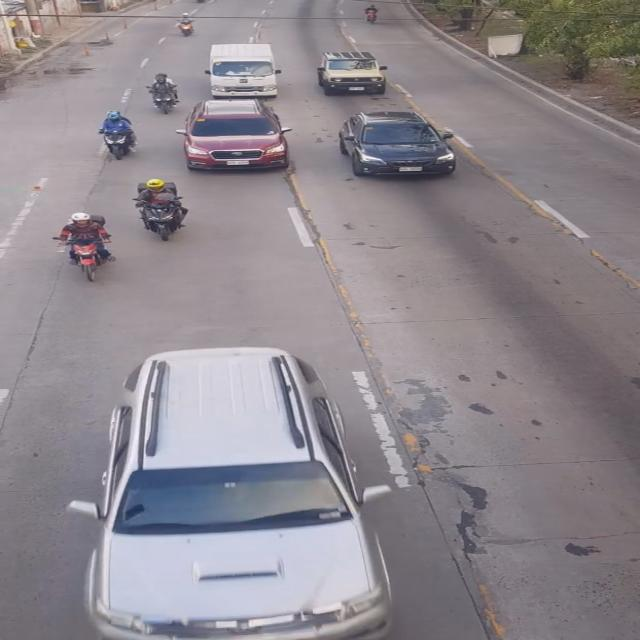car: (84, 352, 402, 640), (338, 109, 455, 185), (181, 95, 290, 176), (317, 49, 389, 96)
motorbike: (137, 175, 188, 245), (65, 214, 112, 286), (97, 110, 138, 158), (147, 72, 180, 118)
truck: (205, 41, 279, 101)
